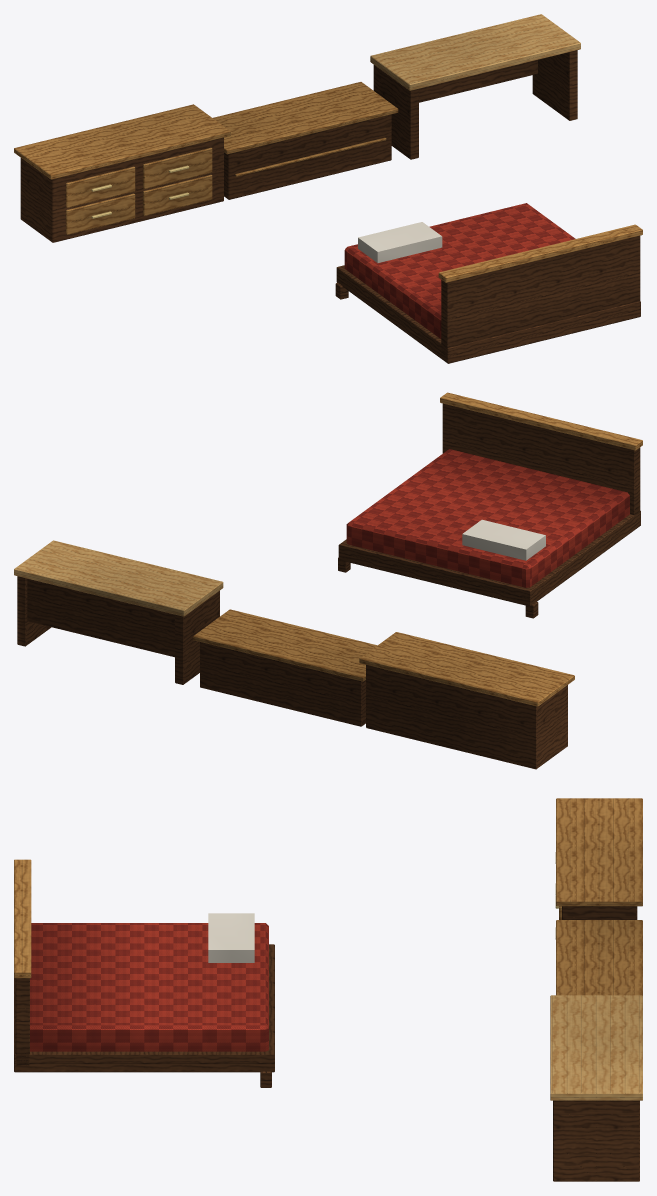
Rendered from room.glb.
3 views of the same model, one above another, from view 1: azimuth 30°, elevation 25°; view 2: azimuth 150°, elevation 25°; view 3: azimuth 270°, elevation 25° (orthographic). The views are drawn at different scales.
Visible parts, largest first — view 1: headboard, mattress, desk_top, dresser_top, tvstand, tvstand_top, dresser, bed_frame, headboard_rail, desk_leg3.7, desk_leg-3.7, pillow (+6 smaller); view 2: mattress, dresser, headboard, desk_top, tvstand, dresser_top, desk_back, tvstand_top, bed_frame, headboard_rail, pillow, desk_leg-3.7 (+1 smaller); view 3: mattress, desk_top, dresser_top, desk_leg3.7, tvstand_top, bed_frame, pillow, headboard_rail, headboard, dresser.
Part boxes in pixels (box(x1,y1,x2,y2)): headboard: box(441, 235, 640, 356); mattress: box(344, 203, 575, 338); desk_top: box(370, 14, 580, 90); dresser_top: box(14, 104, 230, 179); tvstand: box(224, 114, 391, 199); tvstand_top: box(213, 82, 398, 154); dresser: box(20, 137, 223, 242); bed_frame: box(336, 265, 640, 363); headboard_rail: box(438, 224, 642, 282); desk_leg3.7: box(532, 50, 577, 120); desk_leg-3.7: box(373, 65, 418, 159); pillow: box(358, 222, 442, 262); mattress: box(346, 449, 629, 587); dresser: box(366, 665, 567, 769); headboard: box(442, 403, 640, 515); desk_top: box(14, 540, 223, 616); tvstand: box(200, 642, 365, 726); dresser_top: box(359, 632, 574, 706); desk_back: box(27, 578, 174, 657); tvstand_top: box(193, 609, 377, 681); bed_frame: box(338, 511, 640, 606); headboard_rail: box(440, 392, 642, 450); pillow: box(462, 519, 545, 560); desk_leg-3.7: box(175, 591, 219, 684); mattress: box(30, 923, 268, 1051); desk_top: box(550, 995, 642, 1100); dresser_top: box(556, 798, 642, 906); desk_leg3.7: box(553, 1100, 639, 1181); tvstand_top: box(556, 920, 642, 995); bed_frame: box(14, 944, 274, 1072); pillow: box(208, 913, 254, 962); headboard_rail: box(14, 859, 31, 978); headboard: box(15, 978, 29, 1065); dresser: box(562, 906, 637, 919).
Size of the model in its own units: 24.6 by 4.43 by 21.7.
Materials: 6 (4 with a texture image).
